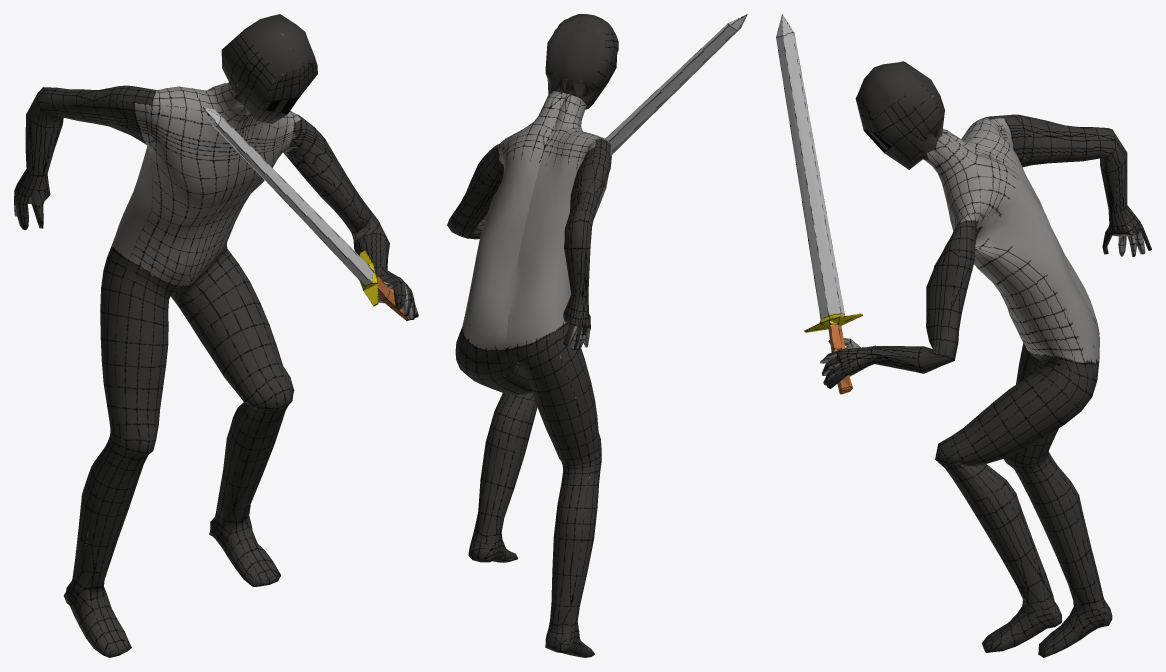
The model's file is player_dash.obj.
The picture shows the model from 3 angles, left to right: view 1: azimuth 30°, elevation 25°; view 2: azimuth 150°, elevation 25°; view 3: azimuth 270°, elevation 25°; orthographic projection. The views are drawn at different scales.
Visible parts, largest first — view 1: Cube_Cube.001; view 2: Cube_Cube.001; view 3: Cube_Cube.001.
Boxes of the visible parts, left/top/right/bottom form: Cube_Cube.001: left=14, top=14, right=418, bottom=657; Cube_Cube.001: left=447, top=14, right=747, bottom=657; Cube_Cube.001: left=776, top=14, right=1151, bottom=657.
Size of the model in its own units: 1.85 by 4.52 by 2.47.
Materials: 1 (1 with a texture image).
